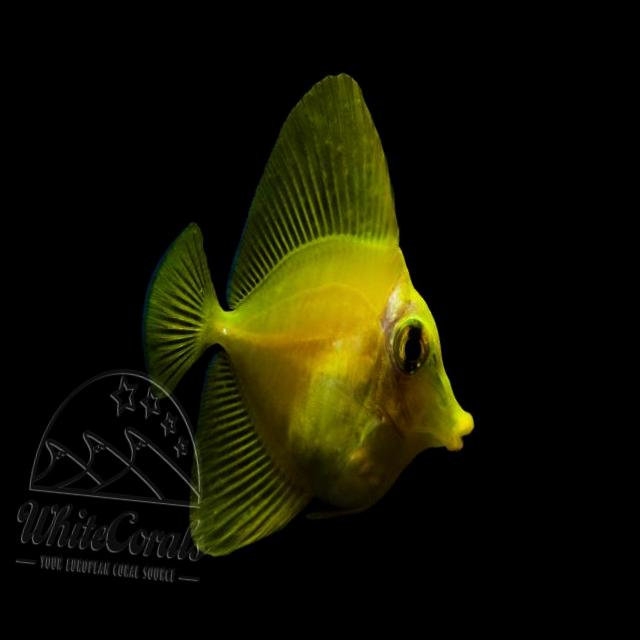TangFish: (114, 48, 510, 586)
